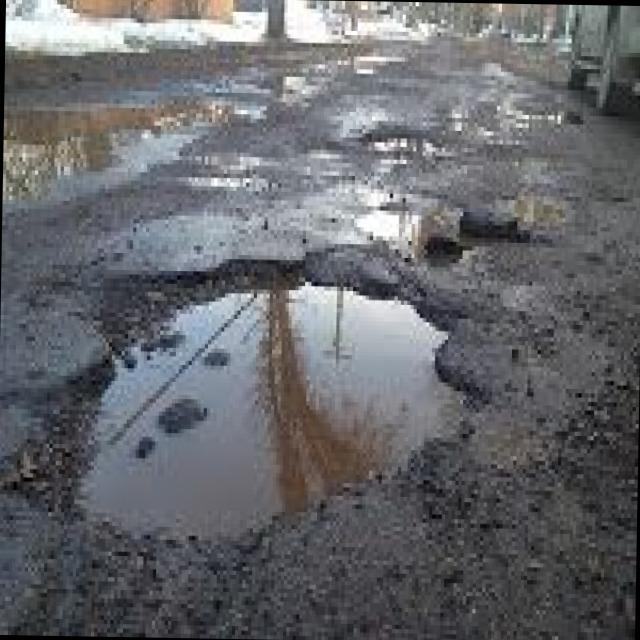Pothole: (4, 246, 564, 550), (8, 72, 286, 218), (350, 119, 480, 185), (452, 186, 570, 258), (342, 180, 458, 242), (416, 228, 500, 280)
